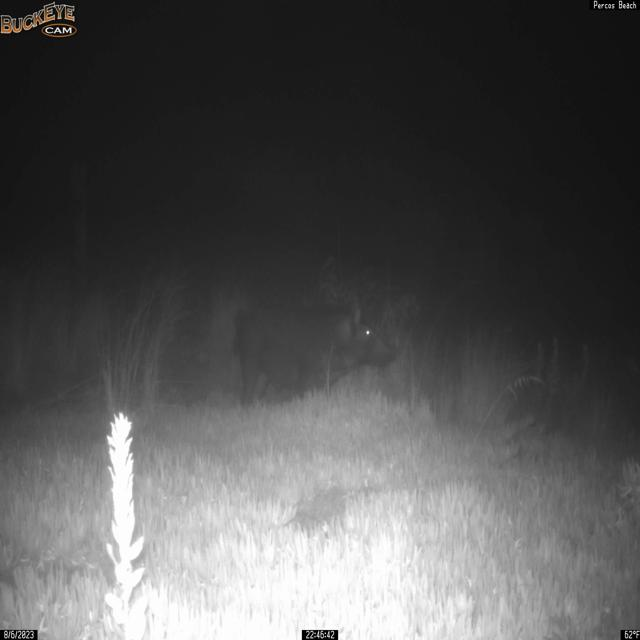pig: (232, 298, 399, 409)
